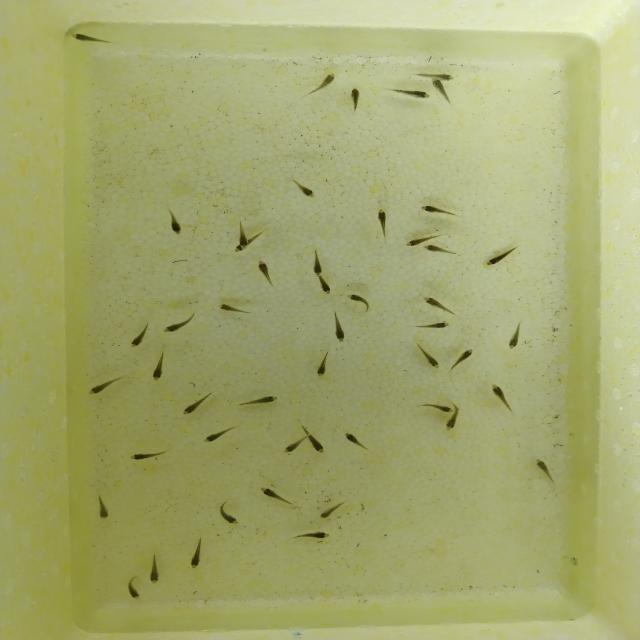fingerling: (62, 29, 124, 52), (497, 321, 533, 352), (286, 176, 326, 203), (253, 483, 296, 508), (369, 204, 396, 242), (485, 378, 515, 412), (159, 205, 188, 240), (84, 374, 128, 397), (306, 70, 346, 95), (233, 392, 283, 412), (416, 293, 458, 316), (316, 496, 352, 522), (175, 394, 212, 419), (184, 538, 210, 573), (252, 256, 280, 288), (482, 245, 517, 270), (416, 201, 462, 220), (148, 350, 172, 386), (211, 500, 241, 528), (89, 493, 119, 521), (383, 86, 433, 102), (280, 527, 336, 541), (197, 426, 240, 444), (412, 346, 444, 370), (446, 346, 478, 370), (531, 454, 558, 482), (429, 80, 454, 110), (339, 428, 370, 451), (126, 322, 152, 349), (338, 292, 373, 312), (310, 353, 336, 379), (211, 300, 253, 316), (144, 557, 165, 588), (118, 579, 144, 604), (327, 317, 351, 344), (161, 315, 191, 336), (124, 449, 168, 463), (304, 251, 328, 276), (229, 217, 251, 244), (437, 414, 467, 433), (408, 320, 456, 331), (417, 400, 453, 414), (421, 244, 459, 257), (347, 86, 363, 116), (308, 437, 333, 454), (417, 69, 455, 80), (280, 439, 303, 457), (314, 280, 336, 296), (404, 233, 420, 249), (230, 245, 247, 255)
